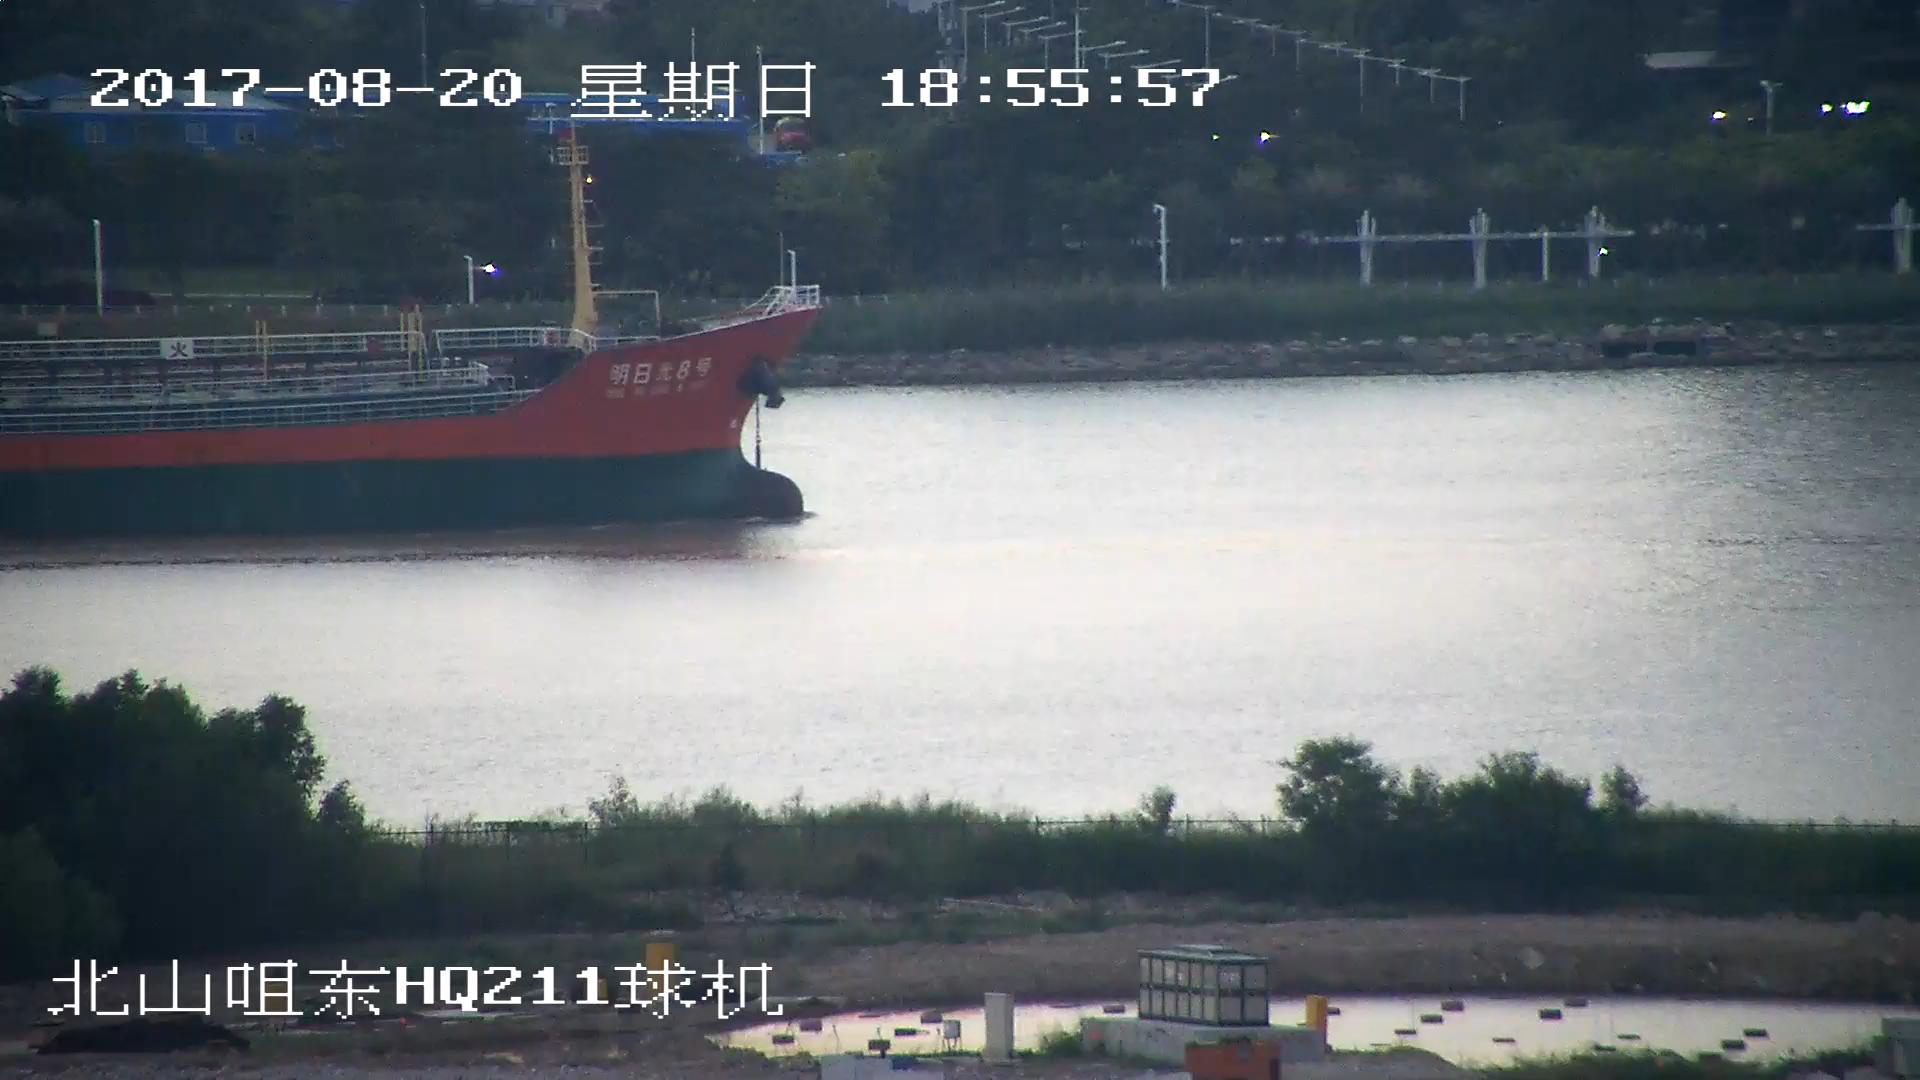general cargo ship: (1, 162, 821, 530)
